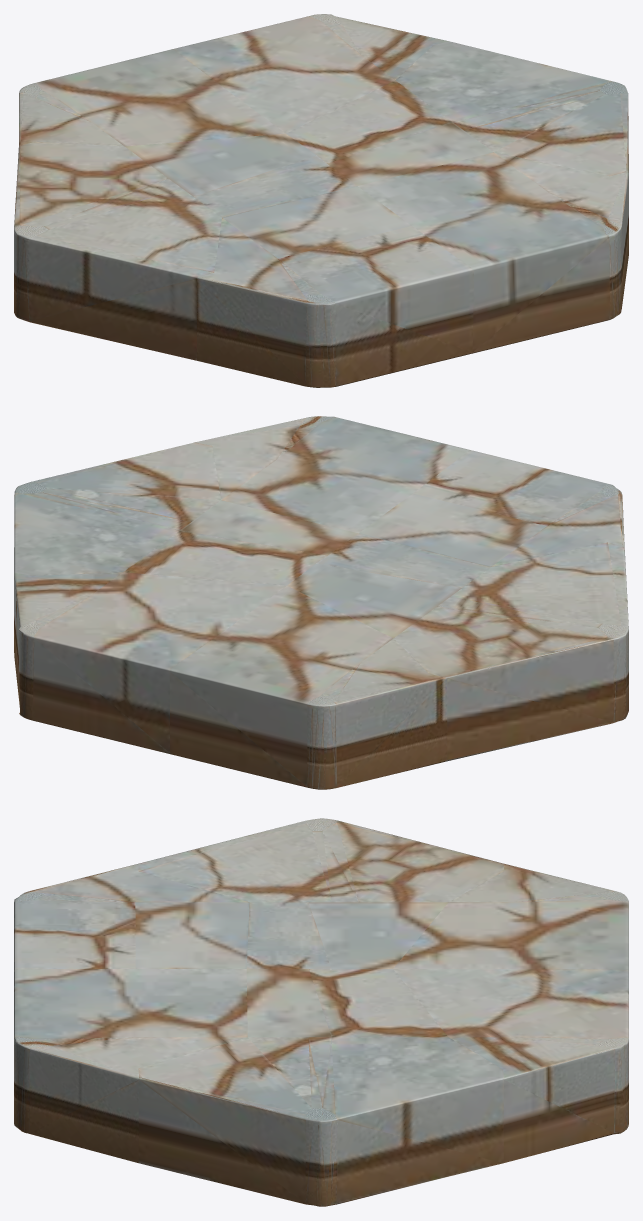
The model's file is floor-mountains.glb.
The picture shows the model from 3 angles, top to bottom: view 1: azimuth 30°, elevation 25°; view 2: azimuth 150°, elevation 25°; view 3: azimuth 270°, elevation 25°; orthographic projection. The views are drawn at different scales.
Size of the model in its own units: 0.9575 by 0.1289 by 0.8208.
1 material, 1 textured.
